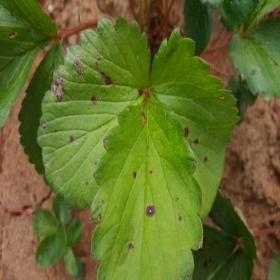Leaf Spot: (36, 14, 152, 212), (88, 89, 204, 279), (148, 27, 241, 222), (228, 16, 279, 102)
